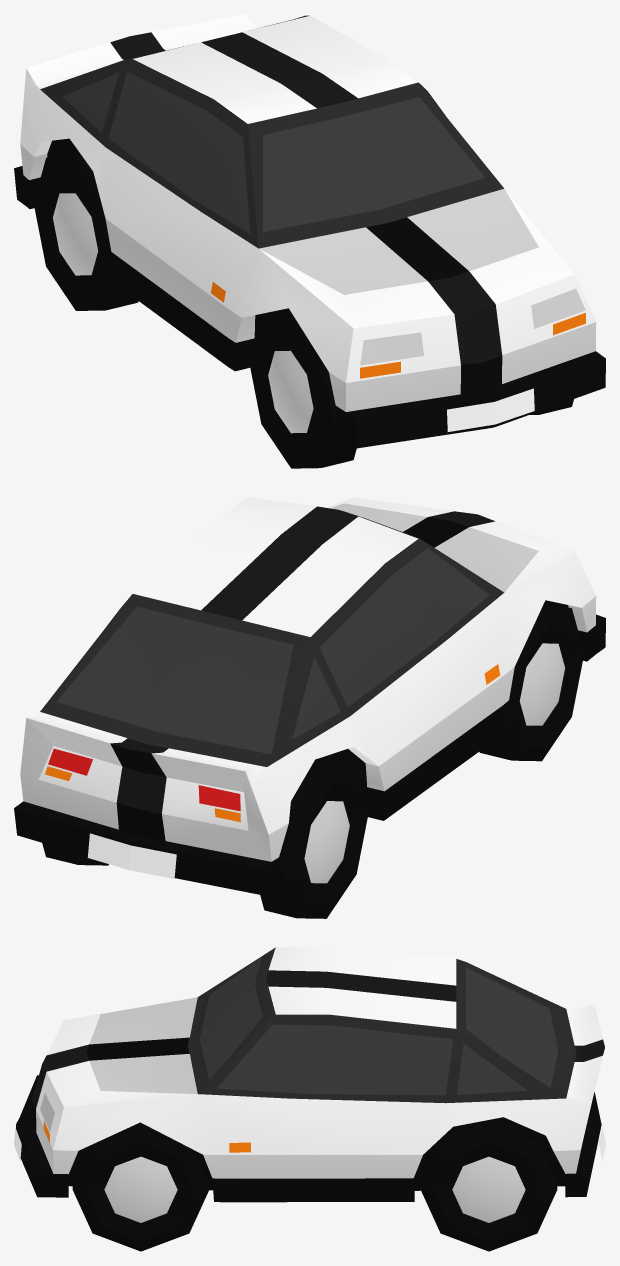
Rendered from sedan_white_with_black_stripe.glb.
3 renders of one model, top to bottom at view 1: azimuth 30°, elevation 25°; view 2: azimuth 150°, elevation 25°; view 3: azimuth 270°, elevation 25°, orthographic. The views are drawn at different scales.
Visible parts, largest first — view 1: Object_26; view 2: Object_26; view 3: Object_26.
Boxes of the visible parts, box(x1,y1,x2,y2) form: Object_26: box(14, 14, 605, 468); Object_26: box(14, 497, 605, 918); Object_26: box(14, 947, 605, 1251).
Bounding box in the file's own units: 2.47 × 2.37 × 5.68.
Materials: 1 (1 with a texture image).
